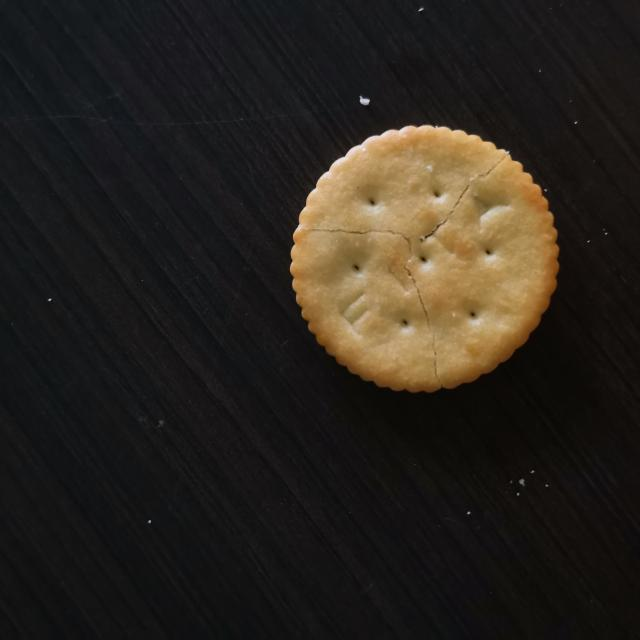Fracture: (292, 153, 509, 387)
